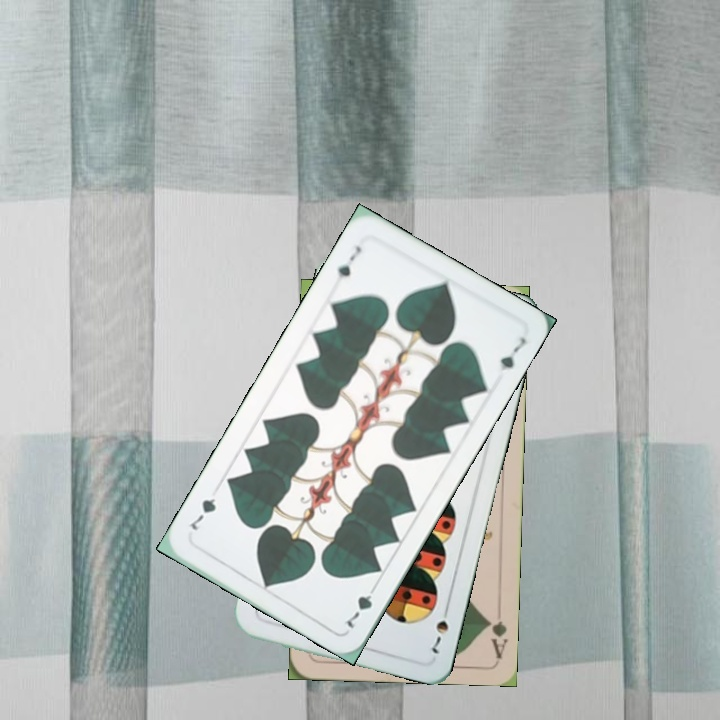G7: (338, 579, 381, 631), (330, 241, 364, 289)
GA: (483, 615, 510, 660)
S7: (428, 600, 453, 657)
